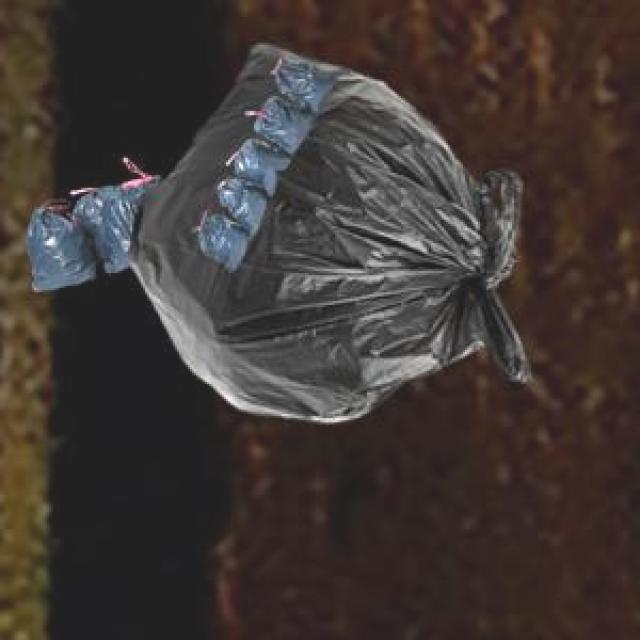Trashbag: (130, 41, 540, 425), (27, 206, 97, 296), (80, 180, 140, 280)
